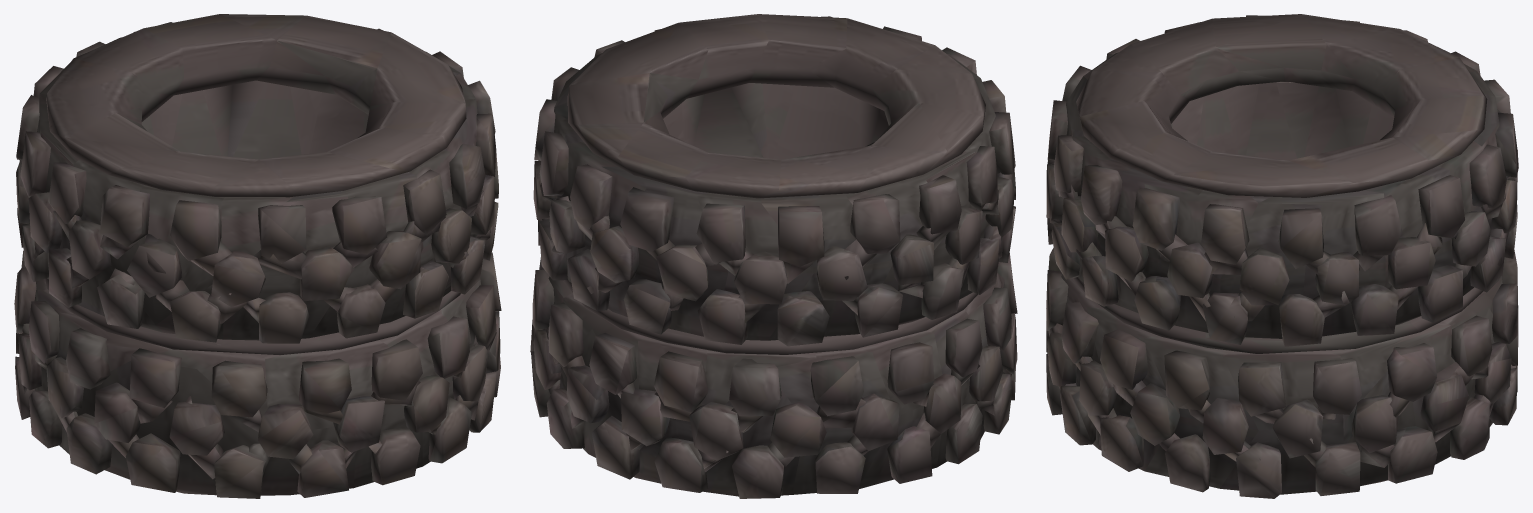
The model's file is truck_wheels.glb.
3 views of the same model, side by side, from view 1: azimuth 30°, elevation 25°; view 2: azimuth 150°, elevation 25°; view 3: azimuth 270°, elevation 25° (orthographic).
Parts seen in each view (by area): view 1: Mesh0; view 2: Mesh0; view 3: Mesh0.
Part boxes in pixels (x1,y1,x2,y2): Mesh0: (14,14,501,498); Mesh0: (530,14,1017,498); Mesh0: (1046,14,1518,498).
Size of the model in its own units: 1 by 0.7095 by 1.
1 material, 1 textured.
